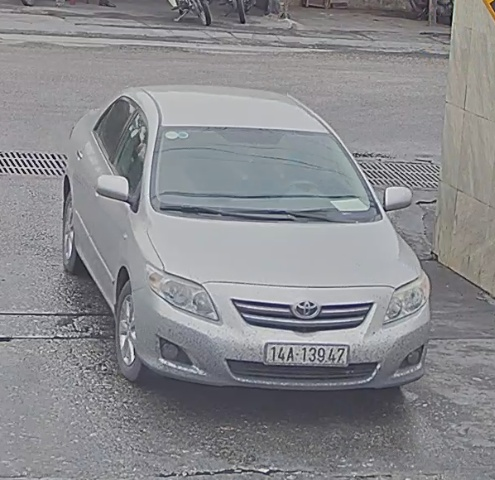vehicle plate: (259, 338, 354, 374)
